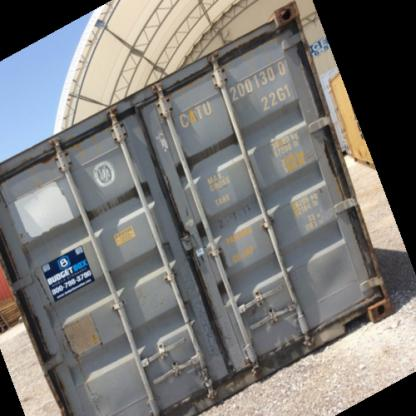Damage: (173, 253, 233, 373), (34, 272, 93, 382), (206, 192, 271, 236), (214, 32, 282, 59), (76, 189, 131, 216), (184, 132, 220, 164), (23, 145, 66, 163)
